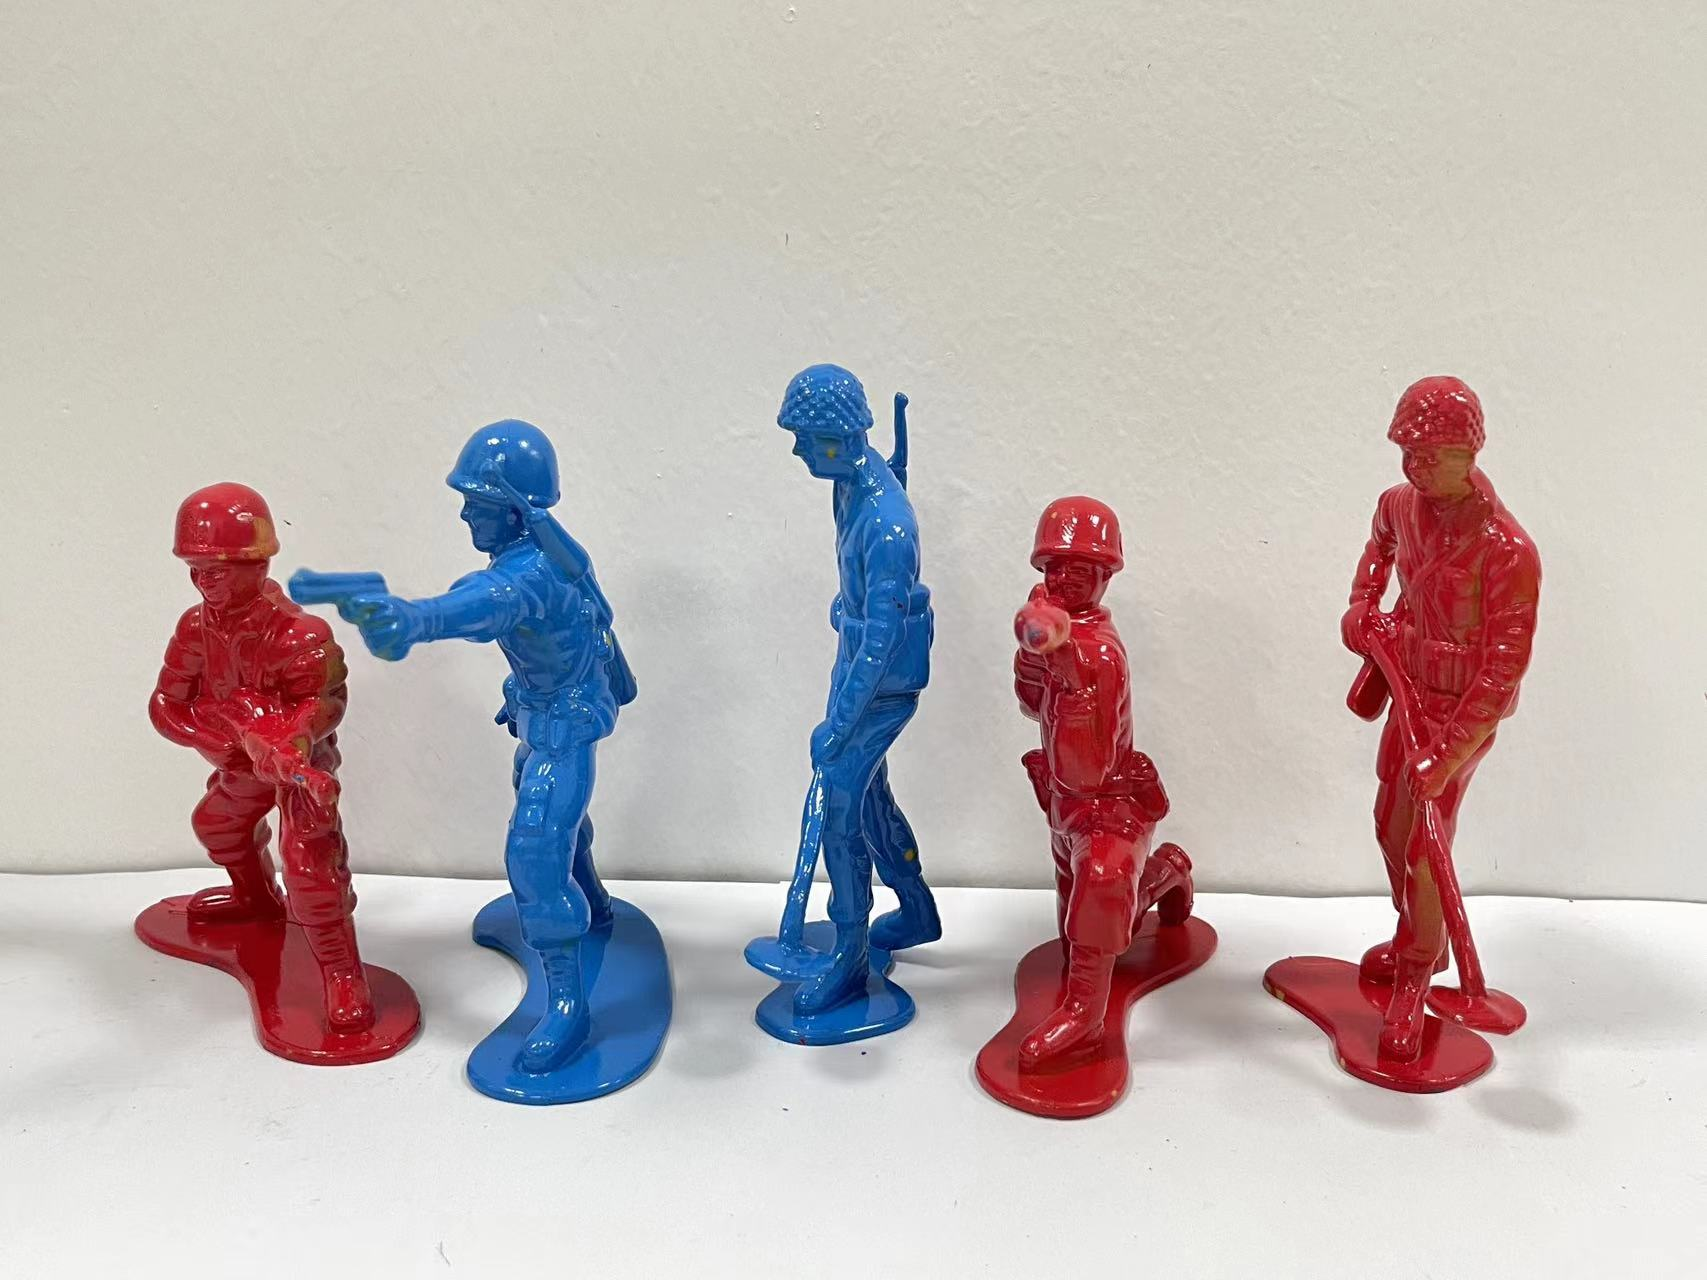blue: (316, 406, 703, 1143), (676, 350, 985, 1080)
red: (1224, 313, 1599, 1150), (91, 457, 418, 1086), (946, 457, 1242, 1146)
